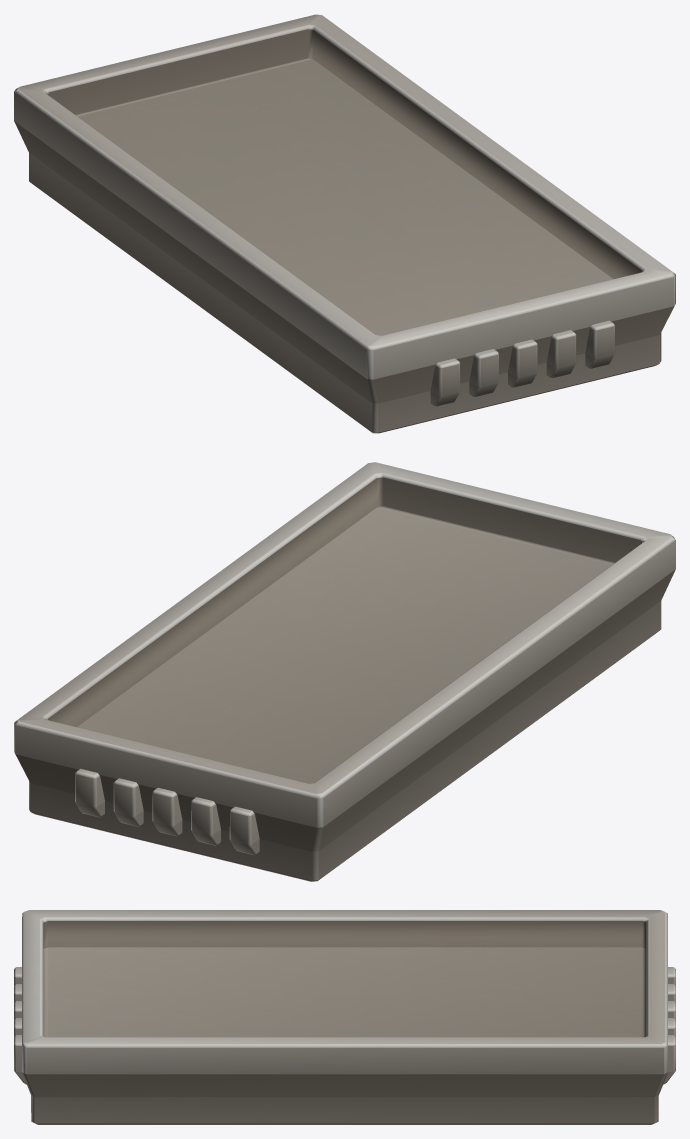
File: office_building_type2_roof_grey.fbx
3 views of the same model, one above another, from view 1: azimuth 30°, elevation 25°; view 2: azimuth 150°, elevation 25°; view 3: azimuth 270°, elevation 25° (orthographic). The views are drawn at different scales.
Parts seen in each view (by area): view 1: office_building_type2_roof_grey; view 2: office_building_type2_roof_grey; view 3: office_building_type2_roof_grey.
Part boxes in pixels (x1=…): office_building_type2_roof_grey: x1=14, y1=14, x2=675, y2=433; office_building_type2_roof_grey: x1=14, y1=462, x2=675, y2=881; office_building_type2_roof_grey: x1=14, y1=910, x2=675, y2=1124.
Size of the model in its own units: 800 by 232 by 1640.
